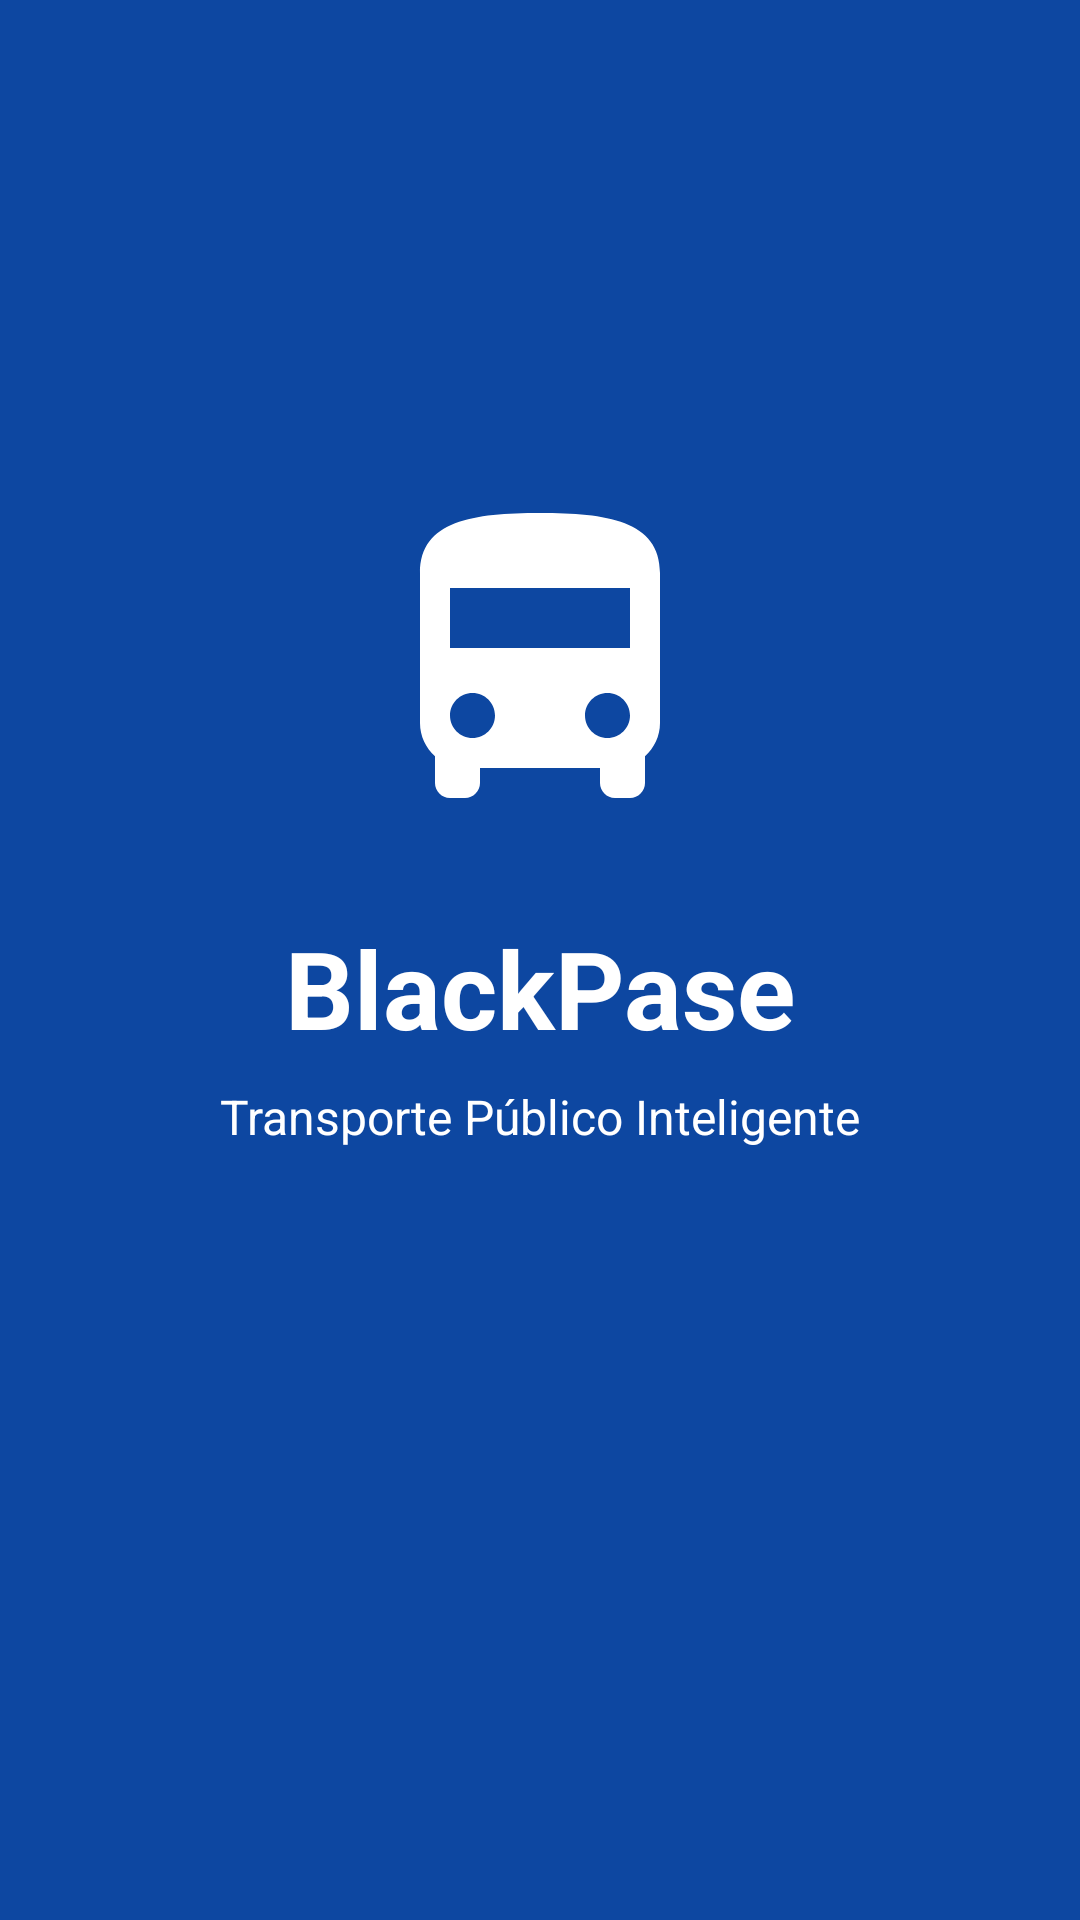

Named icons in this screenshot (1080px×1920px) and their bounding boxes, (x1, y1, x2, y2):
directions bus: (420, 513, 660, 798)
